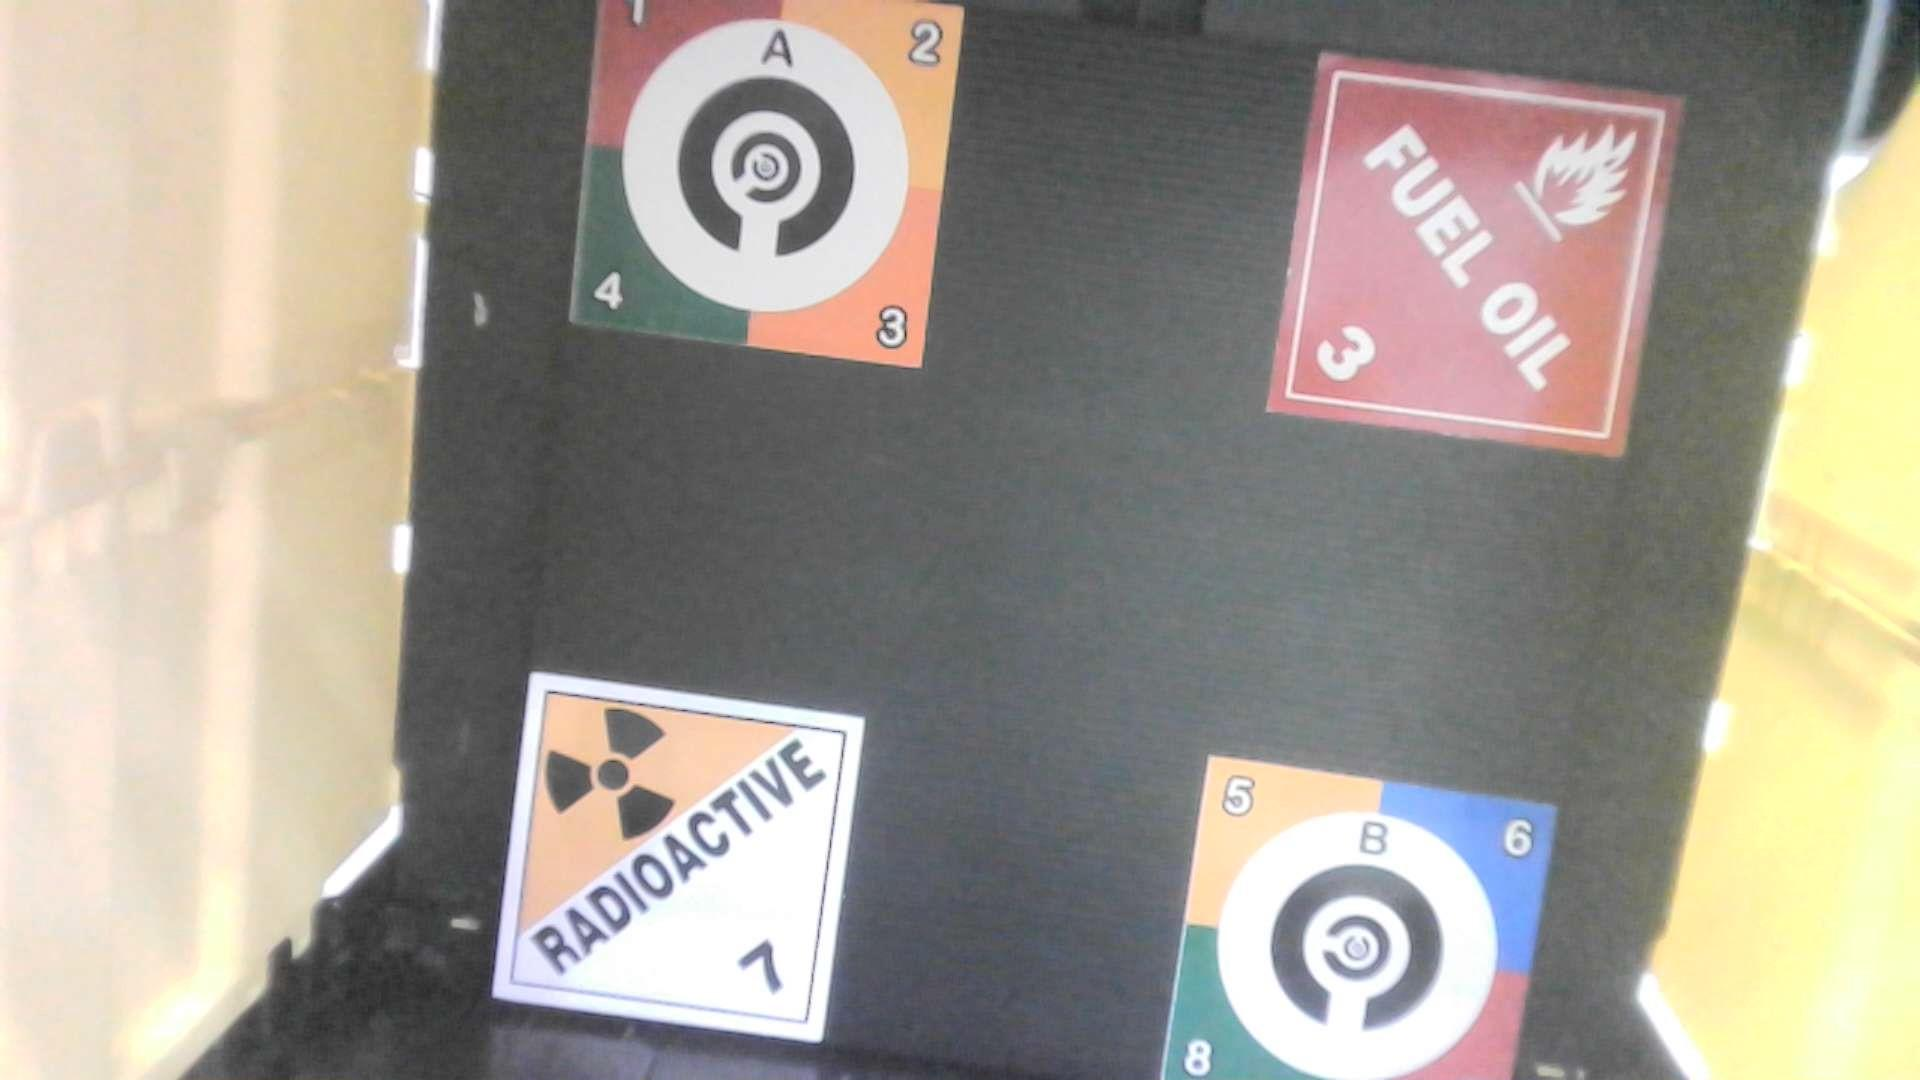flammable: (1247, 29, 1698, 479)
radioactive: (464, 657, 870, 1056)
